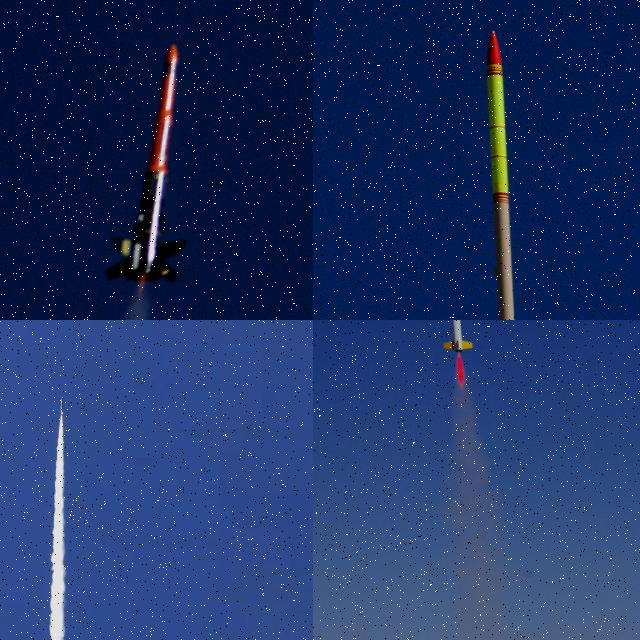Rocket: (103, 42, 193, 286), (483, 29, 539, 320), (441, 320, 474, 353), (60, 396, 64, 416)
